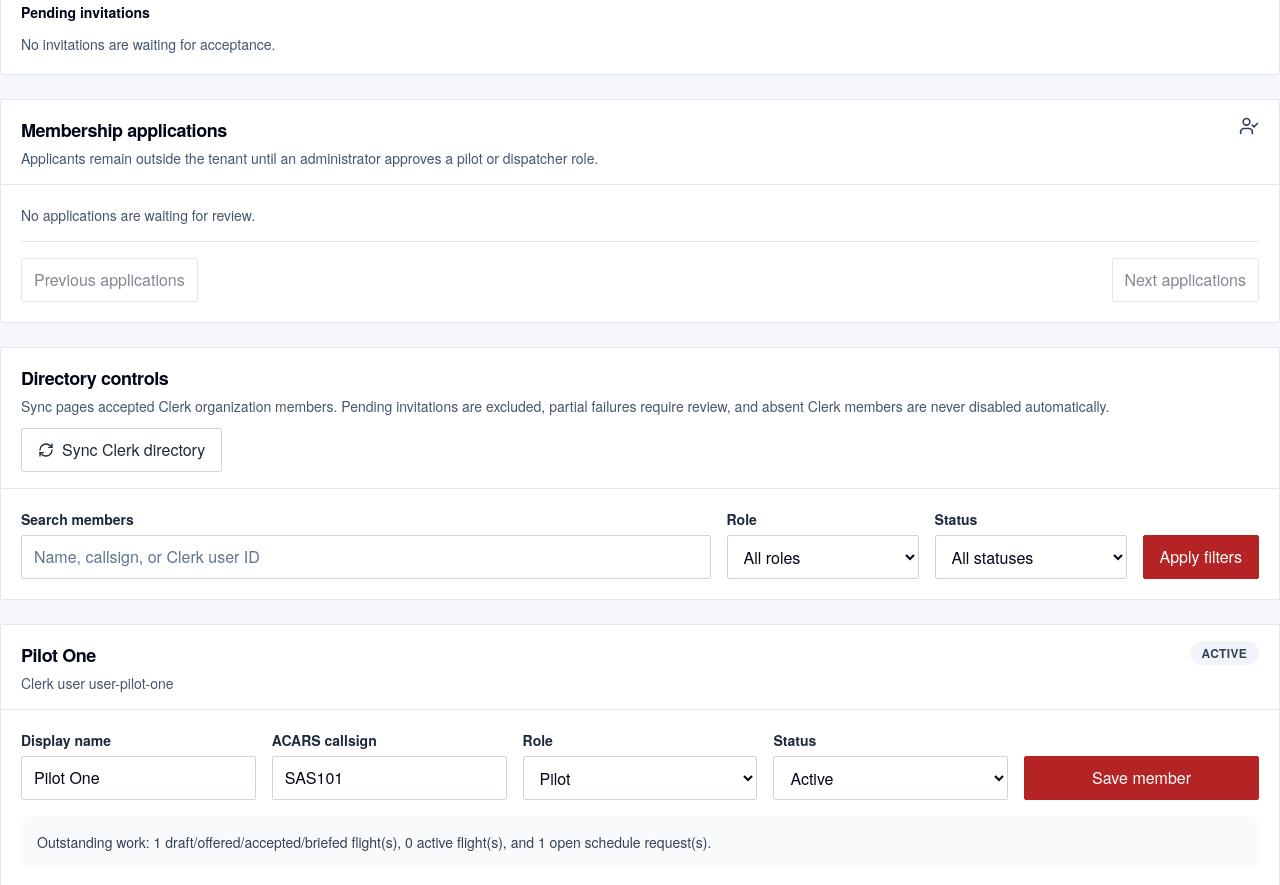
Scenario: admin member console › shows auth-bypass directory sync as a no-op warning
The width and height of the screenshot is (1280, 885).
(page scrolled)
Click the button "Sync Clerk directory" at (122, 450), box [21,428,222,472]
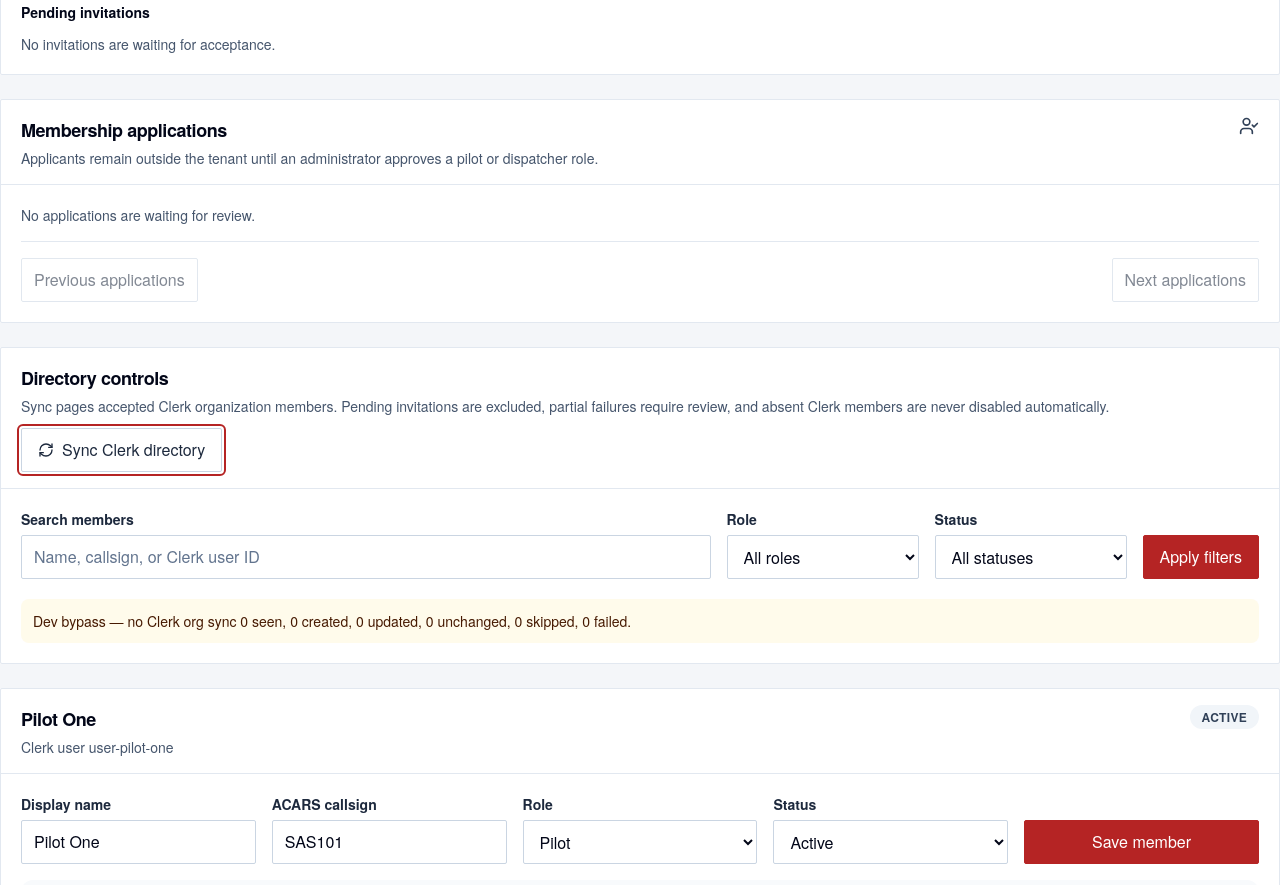
Expected: the message shows "Dev bypass — no Clerk org sync", [33,611,236,631]
Expected: the message shows "0 seen", [21,599,1259,643]
